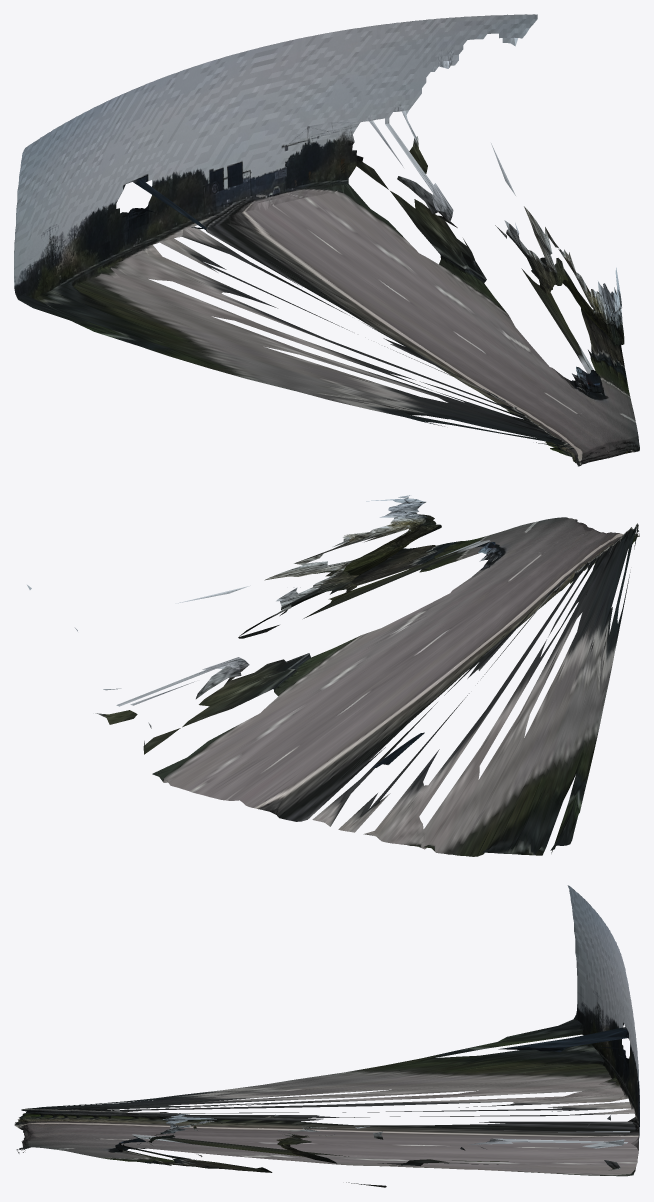
3 renders of one model, top to bottom at view 1: azimuth 30°, elevation 25°; view 2: azimuth 150°, elevation 25°; view 3: azimuth 270°, elevation 25°, orthographic. The views are drawn at different scales.
Visible parts, largest first — view 1: defaultobject; view 2: defaultobject; view 3: defaultobject.
Boxes of the visible parts, left/top/right/bottom form: defaultobject: left=14, top=14, right=639, bottom=466; defaultobject: left=27, top=495, right=639, bottom=856; defaultobject: left=14, top=885, right=639, bottom=1187.
Size of the model in its own units: 38.67 by 12.72 by 44.75.
Materials: 1 (1 with a texture image).
